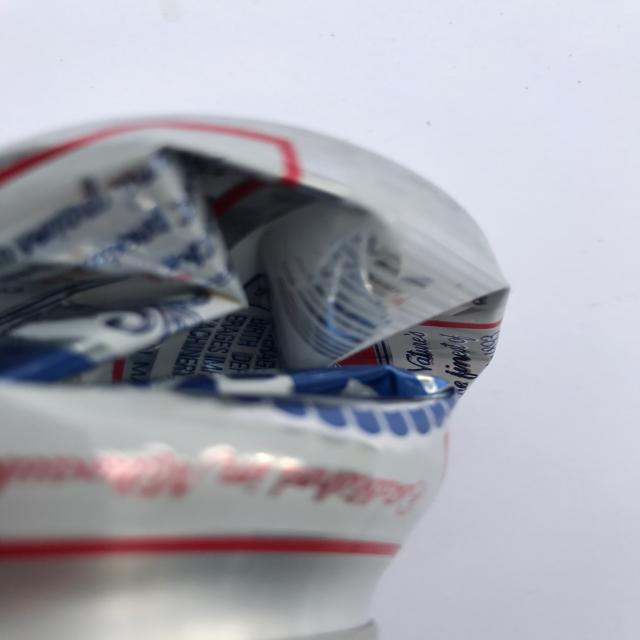Metal: (1, 97, 534, 640)
